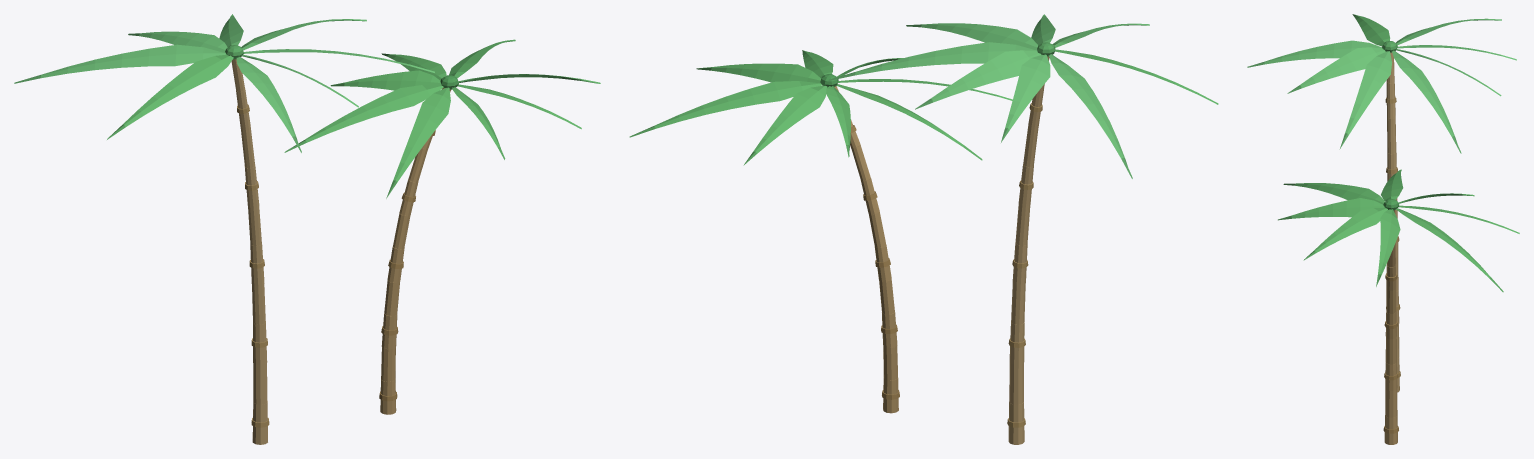
The model's file is Palmeras.glb.
The picture shows the model from 3 angles, left to right: view 1: azimuth 30°, elevation 25°; view 2: azimuth 150°, elevation 25°; view 3: azimuth 270°, elevation 25°; orthographic projection. The views are drawn at different scales.
Visible parts, largest first — view 1: Palm_Alta_hoja8, Palm_Incl_hoja4.001, Palm_Incl_hoja4.002, Palm_Incl_hoja5, Palm_Incl_hoja3, Palm_Alta_hoja2, Palm_Alta_hoja7, Palm_Incl_hoja2, Palm_Alta_seg1, Palm_Incl_hoja6, Palm_Alta_hoja4; view 2: Palm_Alta_hoja5, Palm_Incl_hoja1, Palm_Alta_hoja6, Palm_Alta_hoja7, Palm_Incl_hoja2, Palm_Alta_hoja8, Palm_Incl_hoja0, Palm_Alta_hoja4, Palm_Incl_hoja3, Palm_Incl_hoja4.001, Palm_Alta_seg1, Palm_Incl_hoja4.002 (+1 smaller); view 3: Palm_Alta_hoja4, Palm_Alta_hoja3, Palm_Alta_hoja2, Palm_Alta_hoja5, Palm_Incl_hoja6, Palm_Incl_hoja7, Palm_Incl_hoja0, Palm_Incl_hoja5, Palm_Incl_hoja1, Palm_Incl_hoja4.002, Palm_Incl_hoja4.001, Palm_Alta_hoja8 (+8 smaller).
Boxes of the visible parts, x1,y1,x2,y2 form: Palm_Alta_hoja8: (14,44,226,83); Palm_Incl_hoja4.001: (284,85,443,152); Palm_Incl_hoja4.002: (107,54,233,139); Palm_Incl_hoja5: (386,87,450,198); Palm_Incl_hoja3: (330,70,441,90); Palm_Alta_hoja2: (236,56,301,152); Palm_Alta_hoja7: (128,31,227,52); Palm_Incl_hoja2: (381,53,446,80); Palm_Alta_seg1: (253,363,267,404); Palm_Incl_hoja6: (452,87,505,159); Palm_Alta_hoja4: (243,49,434,72); Palm_Alta_hoja5: (828,42,1037,80); Palm_Incl_hoja1: (629,81,822,137); Palm_Alta_hoja6: (915,50,1041,109); Palm_Alta_hoja7: (1001,54,1050,142); Palm_Incl_hoja2: (743,85,827,165); Palm_Alta_hoja8: (1048,54,1132,178); Palm_Incl_hoja0: (696,63,820,83); Palm_Alta_hoja4: (906,23,1038,50); Palm_Incl_hoja3: (826,86,850,157); Palm_Incl_hoja4.001: (836,84,982,160); Palm_Alta_seg1: (1009,362,1023,404); Palm_Incl_hoja4.002: (1055,49,1218,104); Palm_Alta_hoja4: (1339,51,1391,149); Palm_Alta_hoja3: (1287,47,1385,93); Palm_Alta_hoja2: (1247,40,1382,67); Palm_Alta_hoja5: (1392,50,1461,153); Palm_Incl_hoja6: (1278,198,1384,220); Palm_Incl_hoja7: (1303,208,1387,260); Palm_Incl_hoja0: (1376,209,1400,286); Palm_Incl_hoja5: (1283,183,1384,204); Palm_Incl_hoja1: (1395,208,1503,292); Palm_Incl_hoja4.002: (1352,14,1390,46); Palm_Incl_hoja4.001: (1381,169,1403,200); Palm_Alta_hoja8: (1396,18,1501,45).
Bounding box in the file's own units: 21.44 × 16.18 × 11.84.
